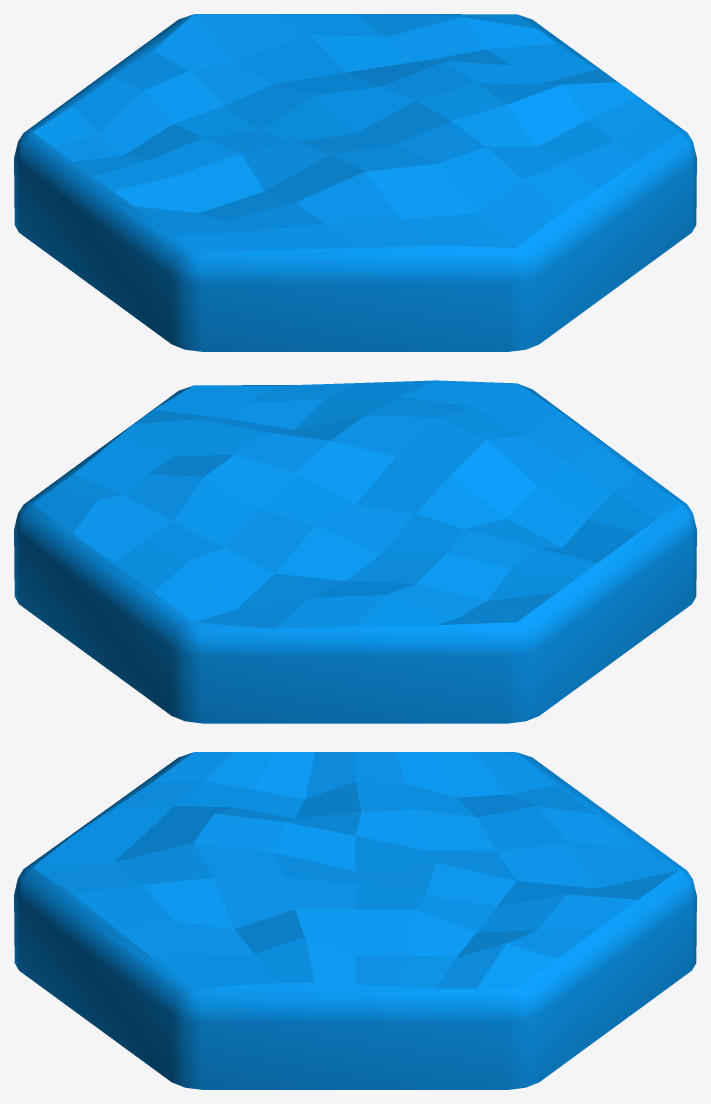
Rendered from FBX_Sea_4 (Fish 2).fbx.
The picture shows the model from 3 angles, top to bottom: view 1: azimuth 30°, elevation 25°; view 2: azimuth 150°, elevation 25°; view 3: azimuth 270°, elevation 25°; orthographic projection.
Parts seen in each view (by area): view 1: sea_fish; view 2: sea_fish; view 3: sea_fish.
Part boxes in pixels (bbox=[...]): sea_fish: bbox=[14, 14, 696, 351]; sea_fish: bbox=[14, 380, 696, 723]; sea_fish: bbox=[14, 752, 696, 1089].
Bounding box in the file's own units: 173 × 38.2 × 197.
